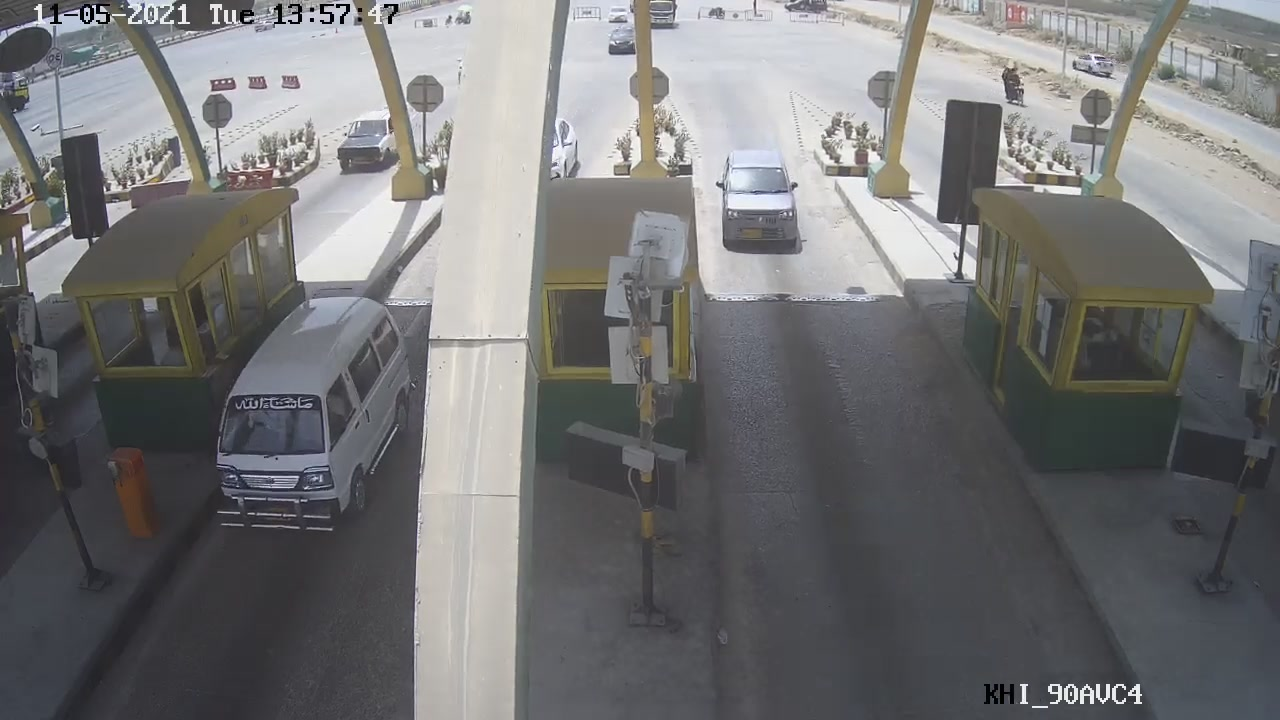F1: (714, 136, 816, 265)
